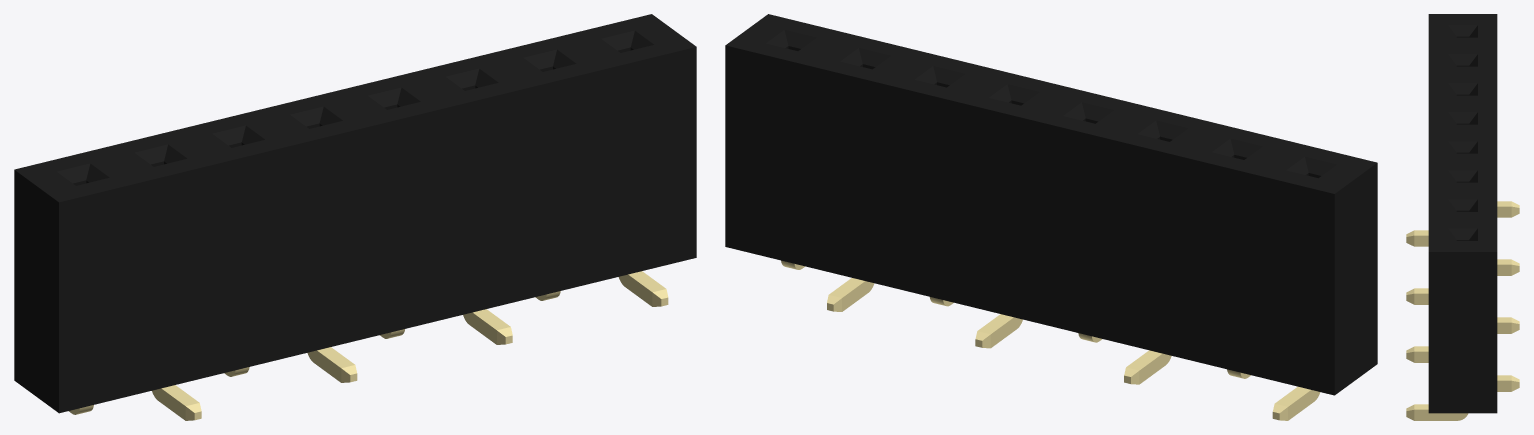
Rendered from sfe-1x08_smd_pin1rightdown.glb.
3 renders of one model, left to right at view 1: azimuth 30°, elevation 25°; view 2: azimuth 150°, elevation 25°; view 3: azimuth 270°, elevation 25°, orthographic. The views are drawn at different scales.
Parts seen in each view (by area): view 1: 0_0_0_0, 0.9166666666666666_0.75_0.4166666666666667_0.9; view 2: 0_0_0_0, 0.9166666666666666_0.75_0.4166666666666667_0.9; view 3: 0_0_0_0, 0.9166666666666666_0.75_0.4166666666666667_0.9.
Boxes of the visible parts, x1=… form: 0_0_0_0: x1=14, y1=14, x2=696, y2=413; 0.9166666666666666_0.75_0.4166666666666667_0.9: x1=69, y1=271, x2=668, y2=420; 0_0_0_0: x1=725, y1=14, x2=1377, y2=395; 0.9166666666666666_0.75_0.4166666666666667_0.9: x1=781, y1=260, x2=1320, y2=420; 0_0_0_0: x1=1428, y1=14, x2=1497, y2=413; 0.9166666666666666_0.75_0.4166666666666667_0.9: x1=1406, y1=201, x2=1519, y2=420.
Bounding box in the file's own units: 2.08 × 0.75 × 0.4199.
